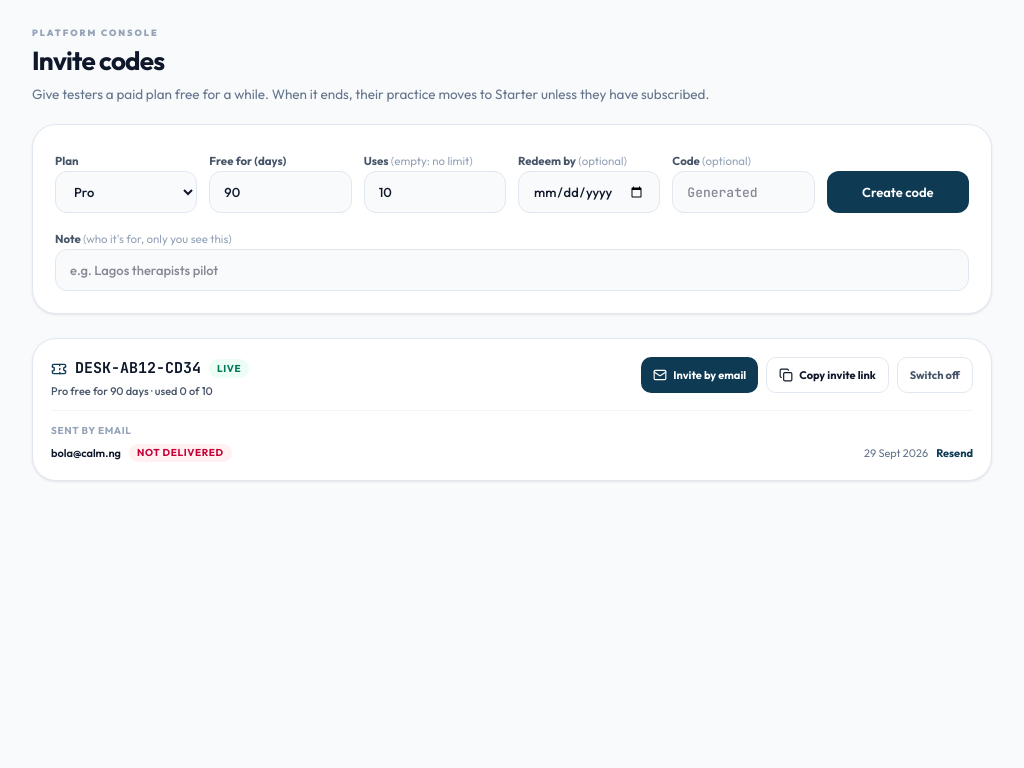
Test: AdminInvitesPage: invite by email › flags an email that did not go out and resends it with the same details
Check: the text "Not delivered" is shown, box [129,444,232,462]
Click the button "Resend".
click(955, 453)  # box [936,446,973,460]
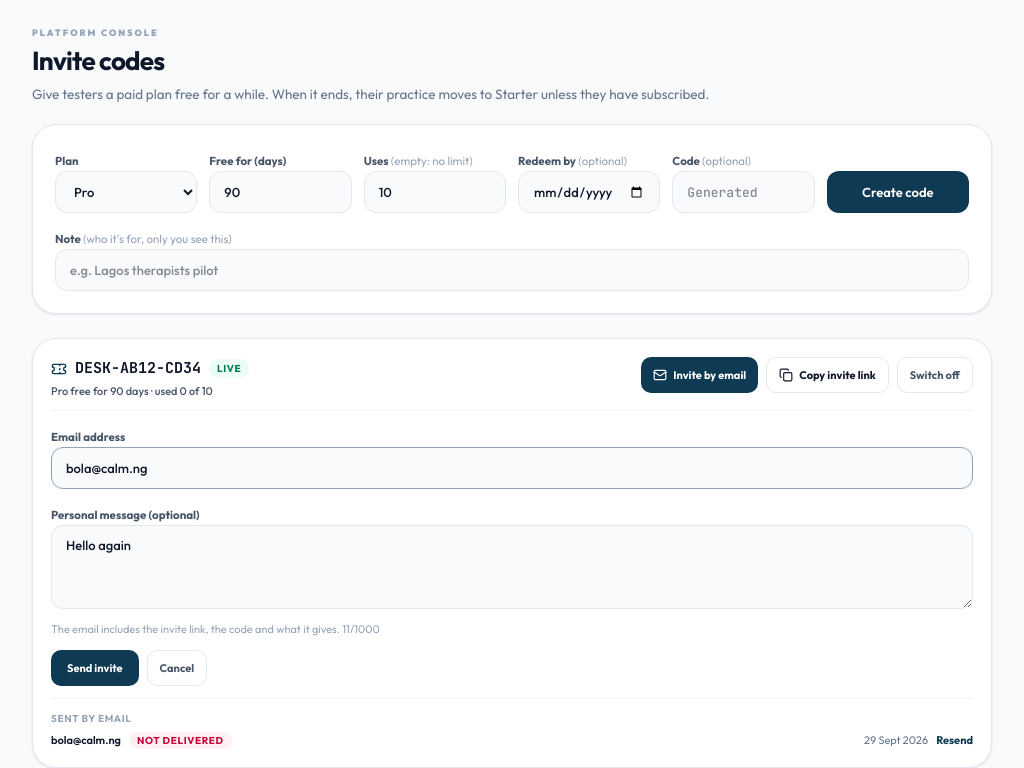
Check: the field labelled "Email address" holds "bola@calm.ng", box [51,447,973,489]
Check: the text box labelled "Personal message (optional)" holds "Hello again", box [51,525,973,609]
